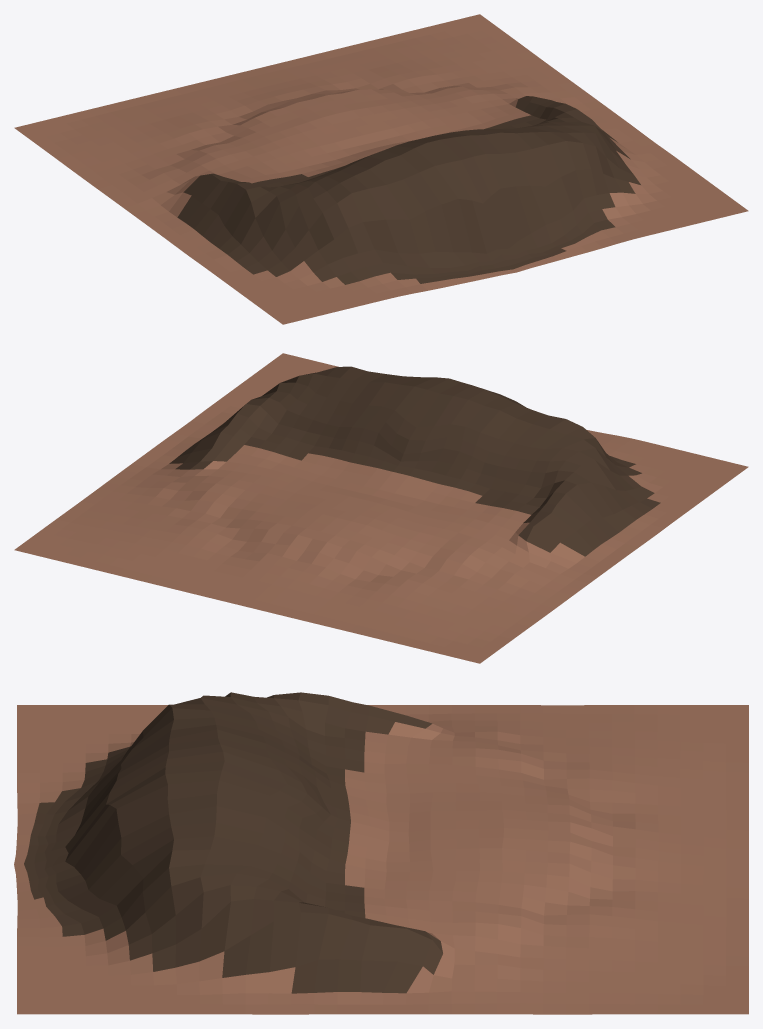
File: island.fbx
3 views of the same model, one above another, from view 1: azimuth 30°, elevation 25°; view 2: azimuth 150°, elevation 25°; view 3: azimuth 270°, elevation 25° (orthographic). The views are drawn at different scales.
Parts seen in each view (by area): view 1: Plane.001; view 2: Plane.001; view 3: Plane.001.
Boxes of the visible parts, x1=… form: Plane.001: x1=14, y1=14, x2=748, y2=324; Plane.001: x1=14, y1=353, x2=748, y2=663; Plane.001: x1=14, y1=692, x2=748, y2=1014.
Size of the model in its own units: 12004 by 1884 by 12053.
